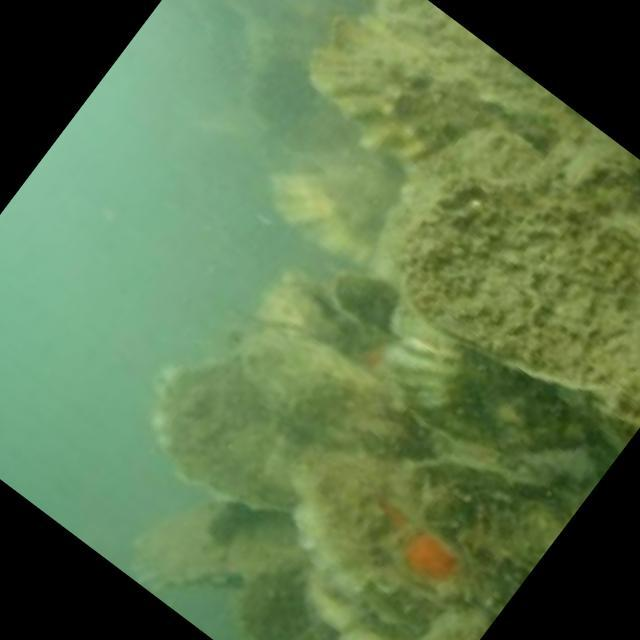Oyster- Indeterminate: (295, 456, 567, 640), (144, 339, 390, 517), (299, 14, 480, 187), (121, 502, 245, 597), (268, 170, 368, 267)
Oyster-Closed: (369, 171, 640, 393)
